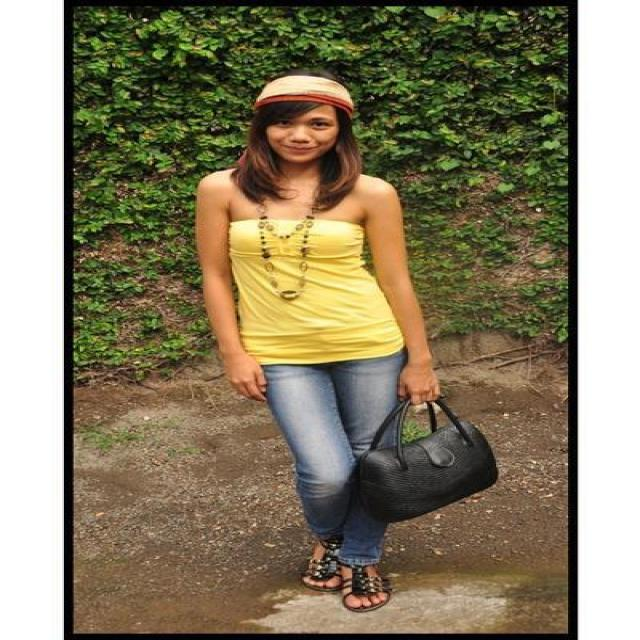bag: (344, 394, 499, 522)
hat: (258, 76, 352, 103)
pants: (252, 344, 426, 566)
shirt: (228, 206, 402, 364)
shoe: (298, 549, 416, 626)
